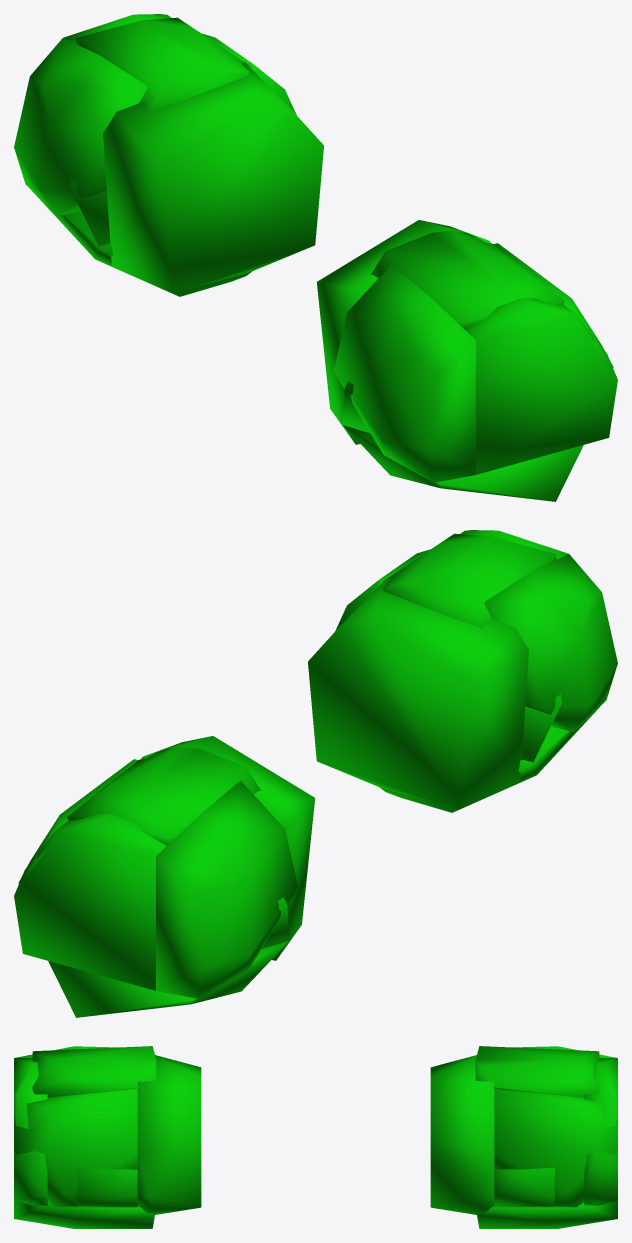
The model's file is UCX_Door3Knob.fbx.
3 renders of one model, top to bottom at view 1: azimuth 30°, elevation 25°; view 2: azimuth 150°, elevation 25°; view 3: azimuth 270°, elevation 25°, orthographic. The views are drawn at different scales.
Visible parts, largest first — view 1: UCX_Door3Knob; view 2: UCX_Door3Knob; view 3: UCX_Door3Knob.
Part boxes in pixels (x1,y1,x2,y2): UCX_Door3Knob: [14, 14, 617, 501]; UCX_Door3Knob: [14, 530, 617, 1017]; UCX_Door3Knob: [14, 1046, 617, 1228].
Size of the model in its own units: 0.0518 by 0.0508 by 0.1705.
